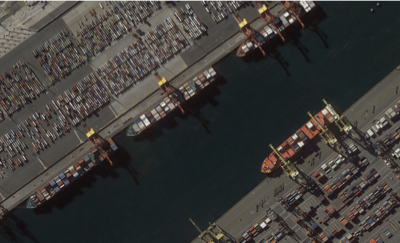boat: (25, 136, 120, 212), (125, 64, 222, 138), (262, 102, 340, 175), (236, 1, 316, 58)
